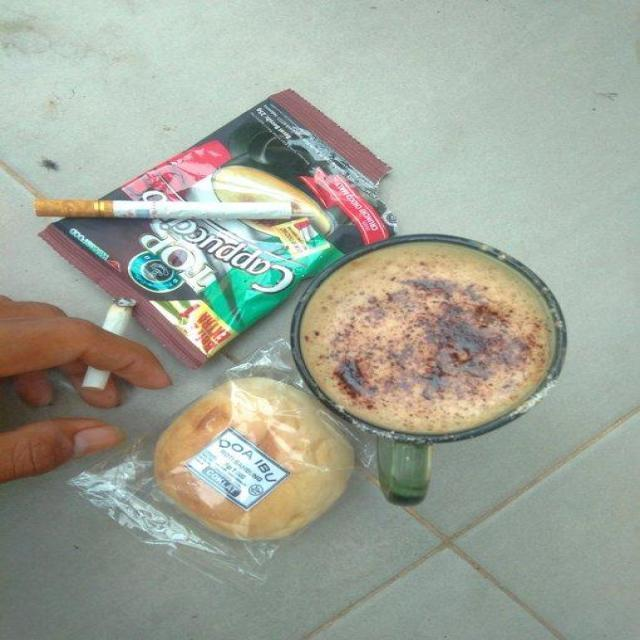rokok: (27, 183, 300, 237), (77, 290, 145, 394)
